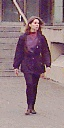person: (21, 16, 45, 111)
